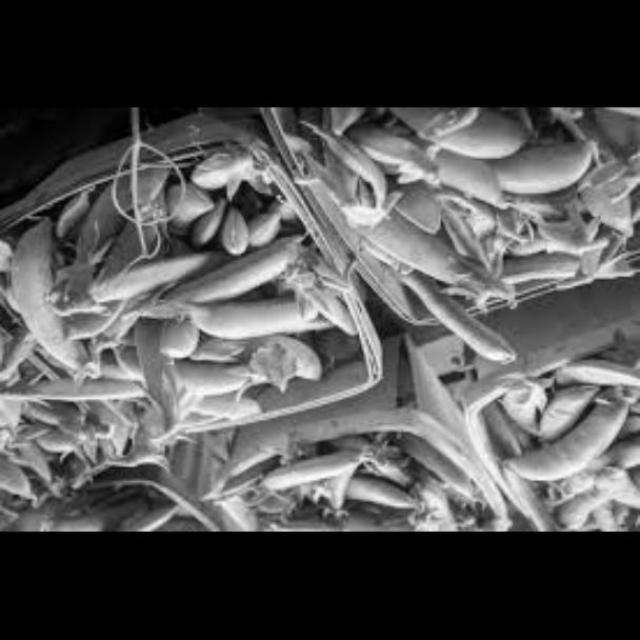dau Ha Lan: (28, 178, 319, 416), (369, 121, 639, 334), (0, 348, 116, 521), (500, 390, 640, 532), (221, 461, 467, 533)
